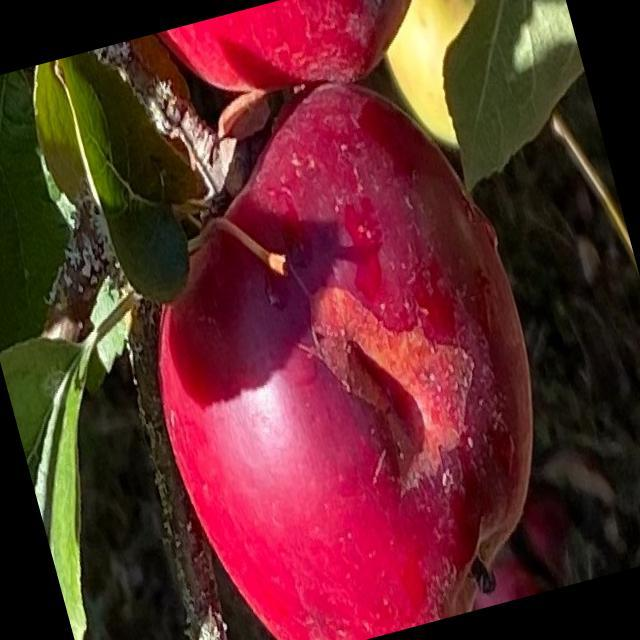100-_ripeness: (92, 55, 589, 639), (155, 0, 447, 121)
